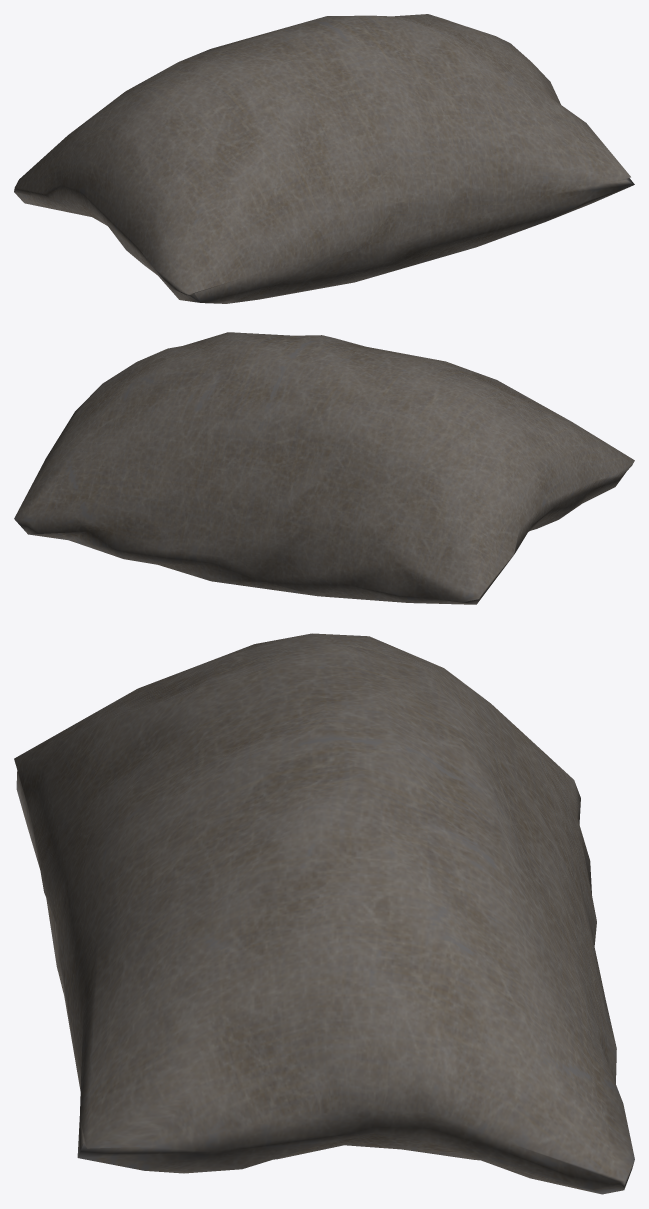
Rendered from SM_Sack_02.fbx.
3 renders of one model, top to bottom at view 1: azimuth 30°, elevation 25°; view 2: azimuth 150°, elevation 25°; view 3: azimuth 270°, elevation 25°, orthographic. The views are drawn at different scales.
Visible parts, largest first — view 1: SM_Sack_02_LOD0; view 2: SM_Sack_02_LOD0; view 3: SM_Sack_02_LOD0.
Part boxes in pixels (bbox=[...]): SM_Sack_02_LOD0: bbox=[14, 14, 634, 303]; SM_Sack_02_LOD0: bbox=[14, 332, 634, 604]; SM_Sack_02_LOD0: bbox=[14, 633, 634, 1194].
Bounding box in the file's own units: 61.09 × 42.34 × 25.68.
